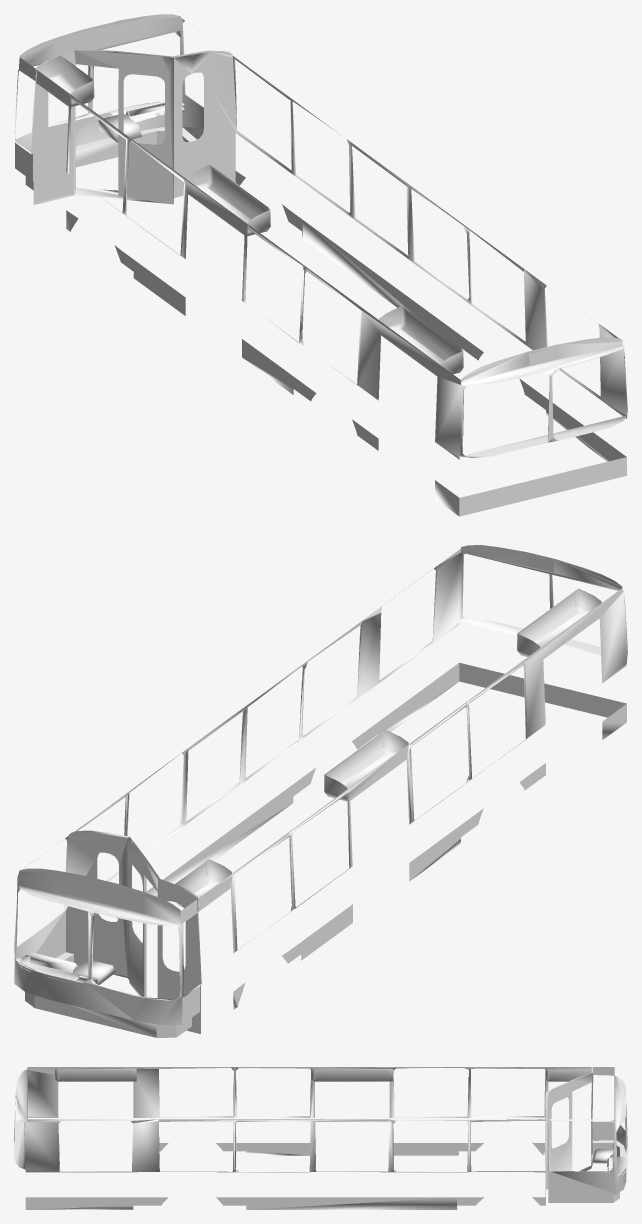
3 renders of one model, top to bottom at view 1: azimuth 30°, elevation 25°; view 2: azimuth 150°, elevation 25°; view 3: azimuth 270°, elevation 25°, orthographic. The views are drawn at different scales.
Size of the model in its own units: 2.37 by 1.95 by 11.11.
1 material, 1 textured.
